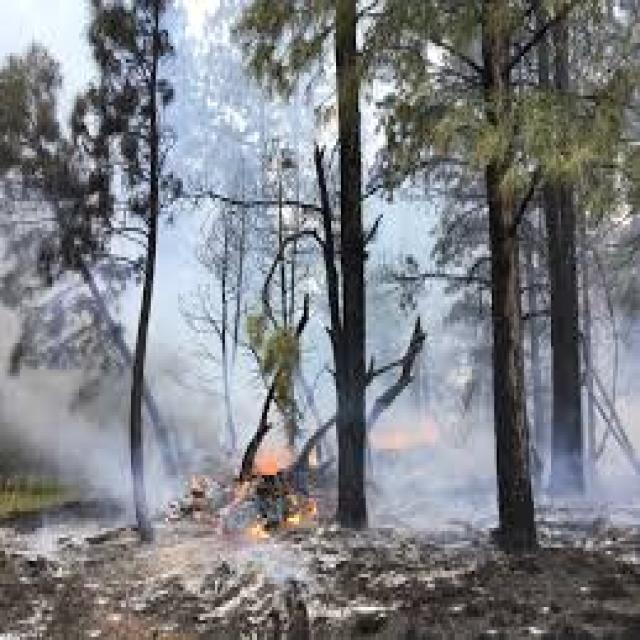Fire: (172, 418, 332, 550)
Smoke: (4, 398, 122, 530), (378, 393, 482, 526), (160, 227, 216, 468), (164, 98, 294, 200)
